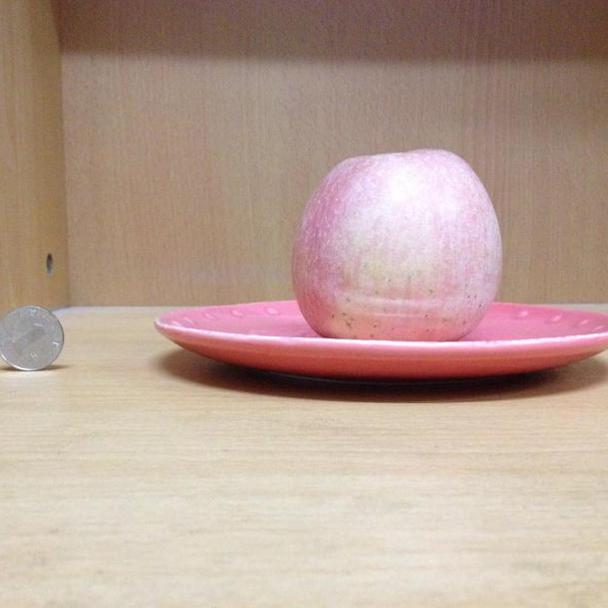apple: (289, 150, 505, 342)
